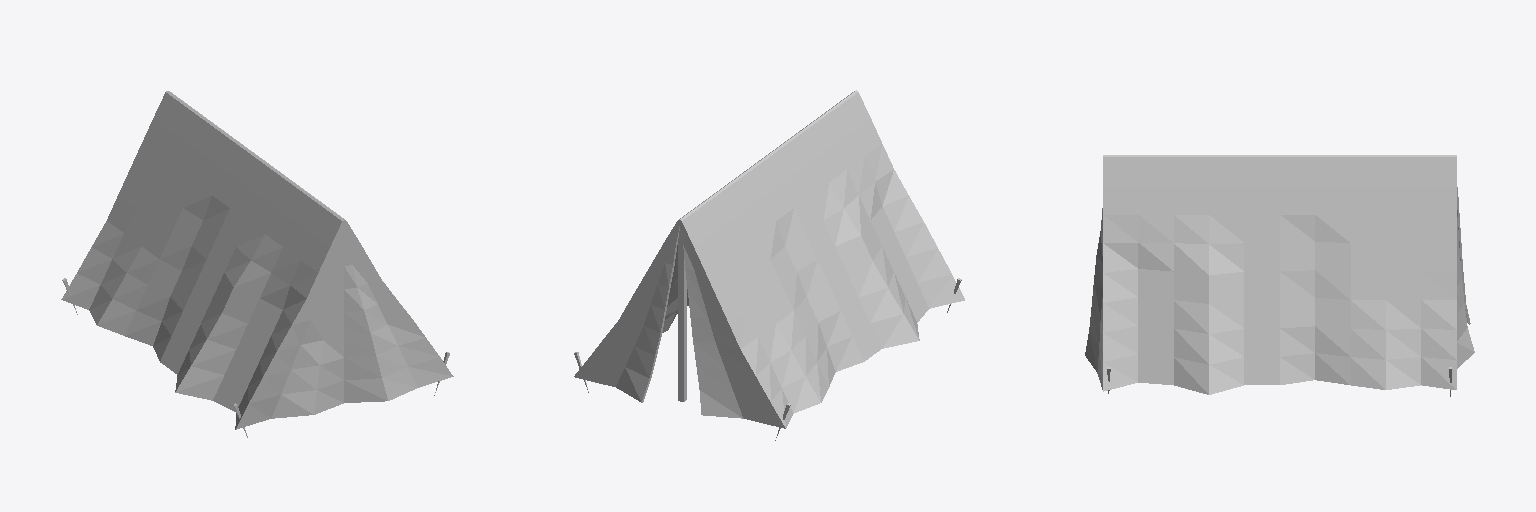
Rendered from tent.obj.
The picture shows the model from 3 angles: view 1: azimuth 30°, elevation 25°; view 2: azimuth 150°, elevation 25°; view 3: azimuth 270°, elevation 25°; orthographic projection.
Visible parts, largest first — view 1: Cube.001; view 2: Cube.001; view 3: Cube.001.
Boxes of the visible parts, x1,y1,x2,y2 form: Cube.001: [61, 91, 453, 437]; Cube.001: [574, 90, 964, 440]; Cube.001: [1085, 155, 1474, 396].
Bounding box in the file's own units: 23.57 × 19.56 × 34.23.